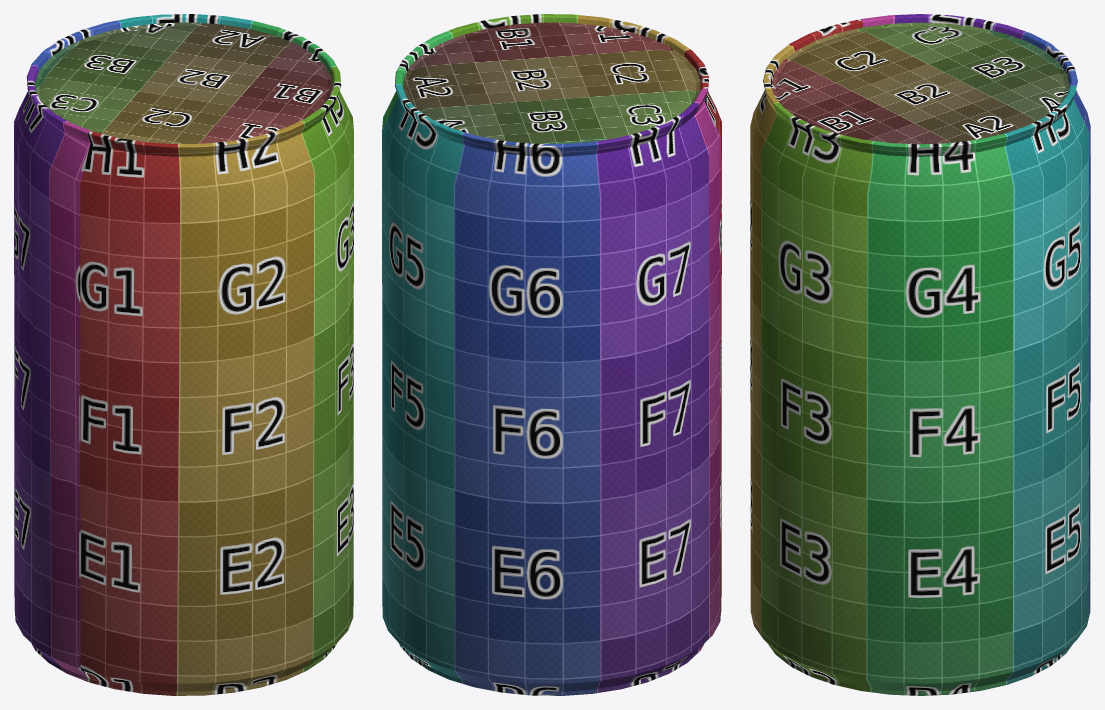
The model's file is Pepsi.obj.dae.
The picture shows the model from 3 angles, left to right: view 1: azimuth 30°, elevation 25°; view 2: azimuth 150°, elevation 25°; view 3: azimuth 270°, elevation 25°; orthographic projection.
Parts seen in each view (by area): view 1: Pepsi_L_P; view 2: Pepsi_L_P; view 3: Pepsi_L_P.
Part boxes in pixels (<box>): Pepsi_L_P: <box>14,14,353,695</box>; Pepsi_L_P: <box>382,14,721,695</box>; Pepsi_L_P: <box>750,14,1090,695</box>.
Bounding box in the file's own units: 2.25 × 2.25 × 4.01.
1 material, 1 textured.
